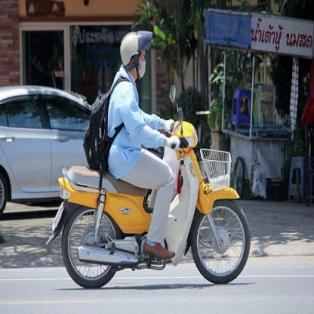Motocicleta: (56, 106, 254, 286)
